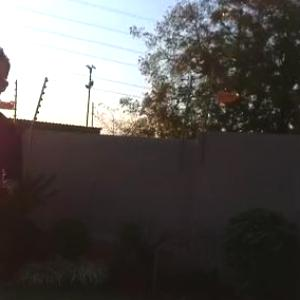follow: (0, 44, 22, 299)
